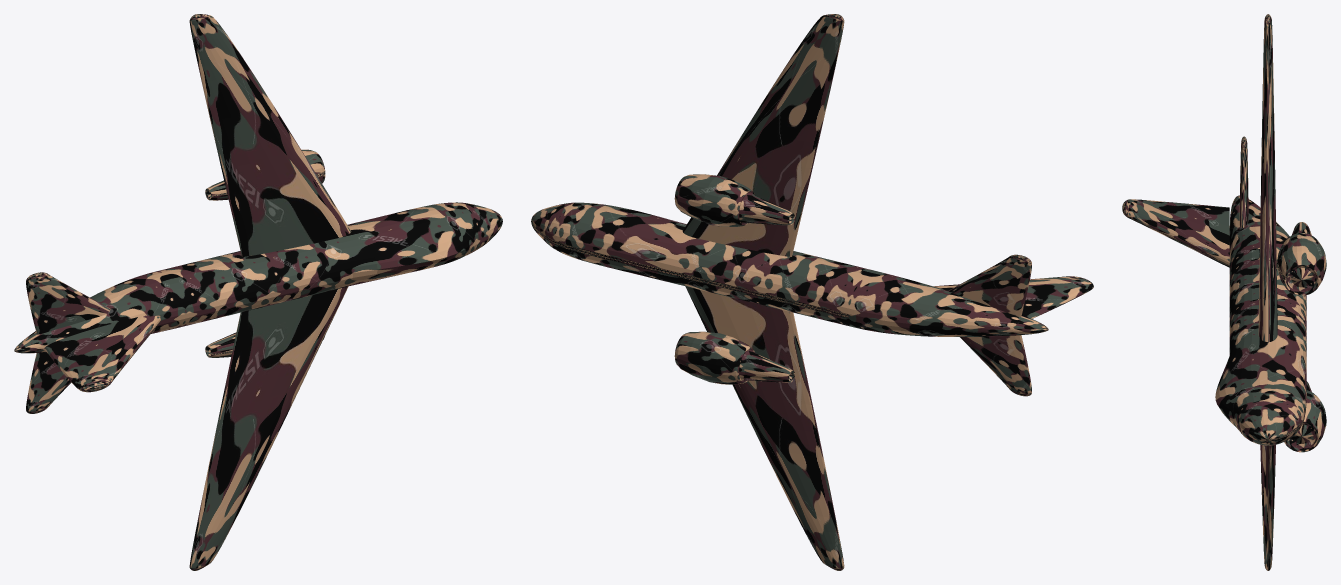
File: boeing.obj
3 renders of one model, left to right at view 1: azimuth 30°, elevation 25°; view 2: azimuth 150°, elevation 25°; view 3: azimuth 270°, elevation 25°, orthographic.
Visible parts, largest first — view 1: Boeing; view 2: Boeing; view 3: Boeing.
Part boxes in pixels (<box>): Boeing: <box>14,14,502,570</box>; Boeing: <box>531,14,1093,570</box>; Boeing: <box>1122,14,1326,570</box>.
Bounding box in the file's own units: 60 × 63.6 × 21.29.
Materials: 1 (1 with a texture image).
